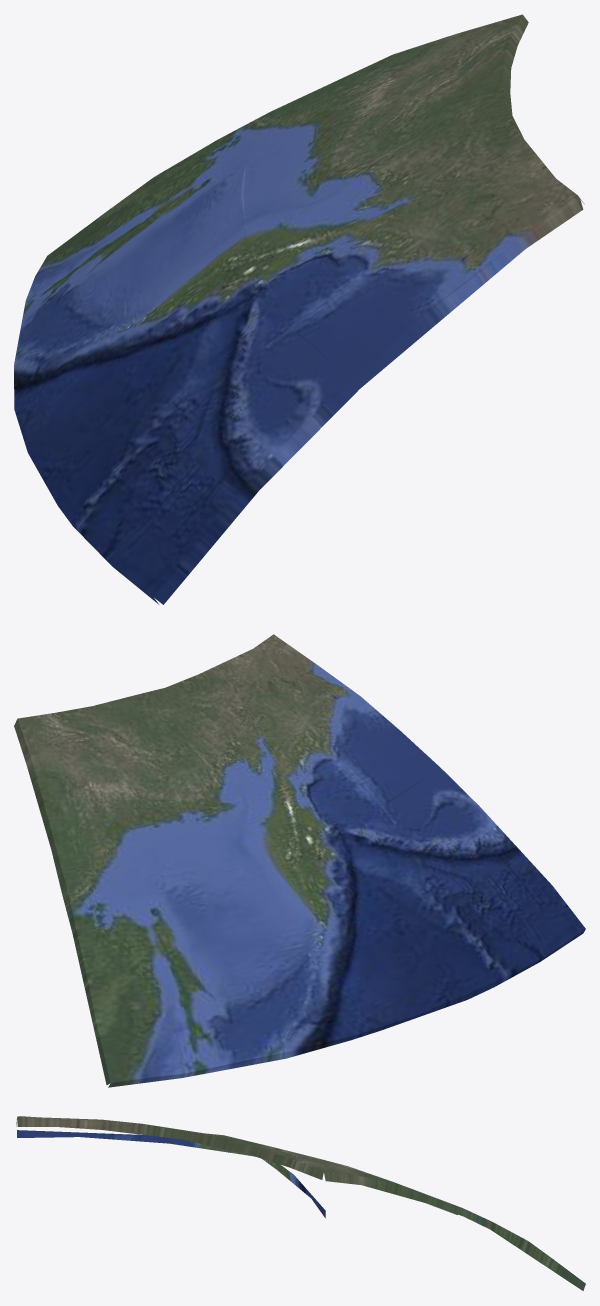
The picture shows the model from 3 angles, top to bottom: view 1: azimuth 30°, elevation 25°; view 2: azimuth 150°, elevation 25°; view 3: azimuth 270°, elevation 25°; orthographic projection. The views are drawn at different scales.
Size of the model in its own units: 2826882 by 1445543 by 3230435.
Materials: 1 (1 with a texture image).
